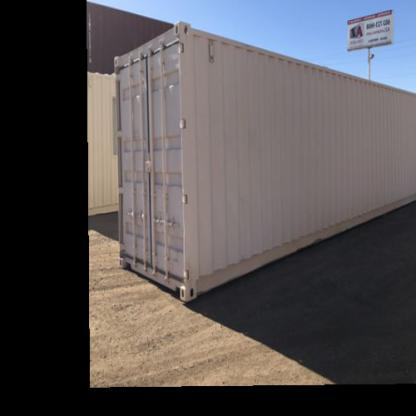Damage: (221, 186, 250, 208)
